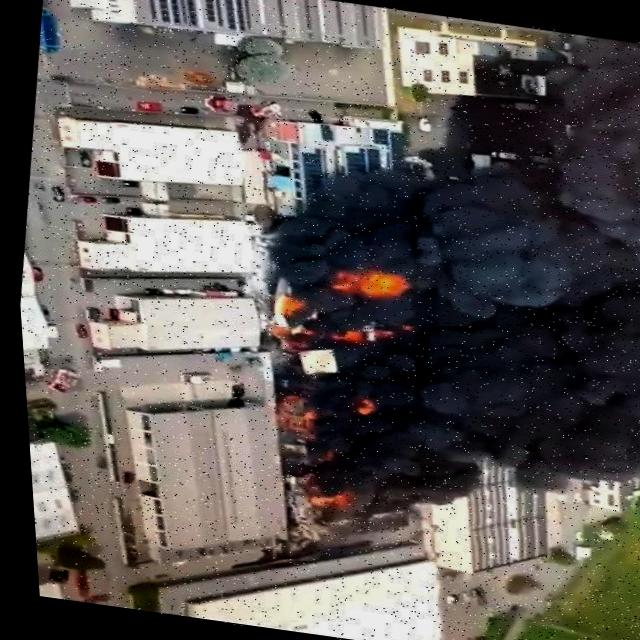Smoke: (392, 29, 640, 551), (242, 148, 470, 546)
